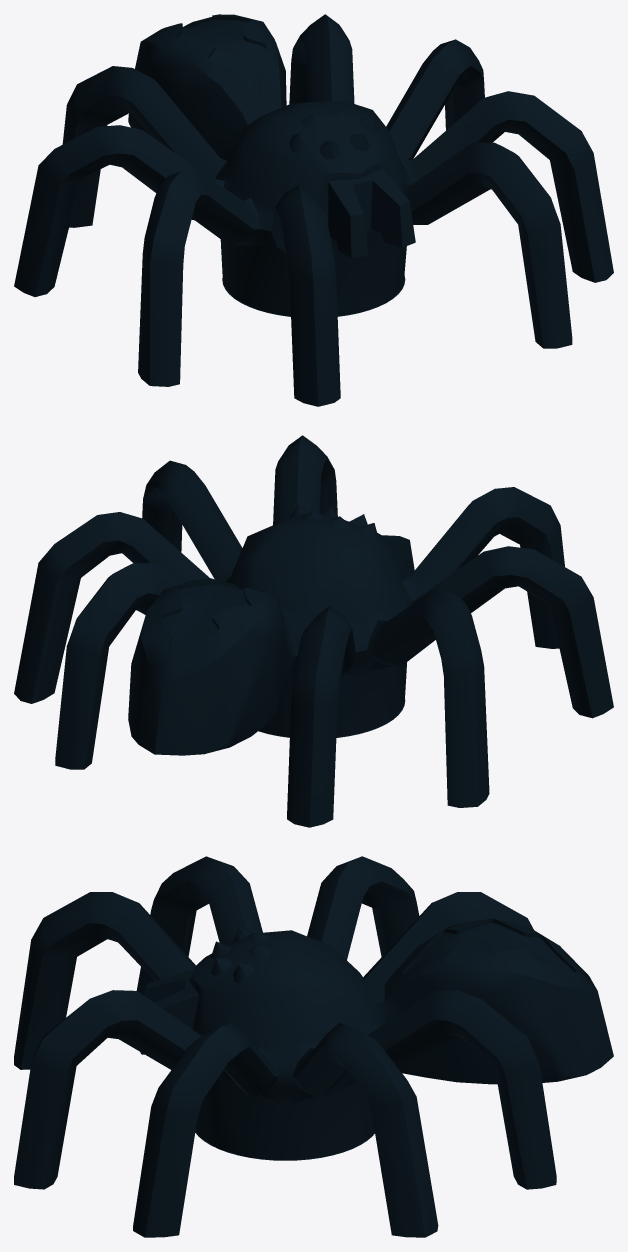
The model's file is Spider1.dae.
3 renders of one model, top to bottom at view 1: azimuth 30°, elevation 25°; view 2: azimuth 150°, elevation 25°; view 3: azimuth 270°, elevation 25°, orthographic. The views are drawn at different scales.
Parts seen in each view (by area): view 1: Inner-Node-UntitledModel_dot_io-0; view 2: Inner-Node-UntitledModel_dot_io-0; view 3: Inner-Node-UntitledModel_dot_io-0.
Part boxes in pixels (<box>): Inner-Node-UntitledModel_dot_io-0: <box>14,14,613,406</box>; Inner-Node-UntitledModel_dot_io-0: <box>14,435,613,827</box>; Inner-Node-UntitledModel_dot_io-0: <box>14,856,613,1237</box>.
Bounding box in the file's own units: 46.6 × 17.24 × 50.57.
